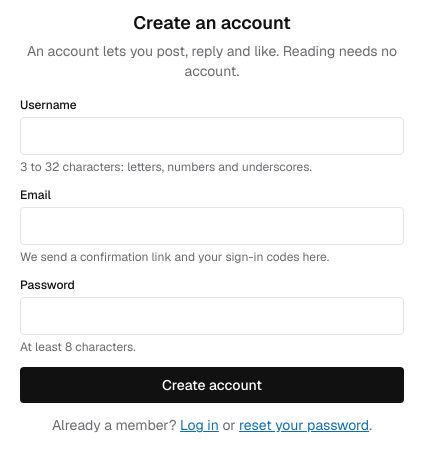
Scenario: Register › refuses a username the API would refuse, without asking it
Type "no" into the field labelled "Username" at (212, 136), box top-left (20, 117), bottom-right (404, 155)
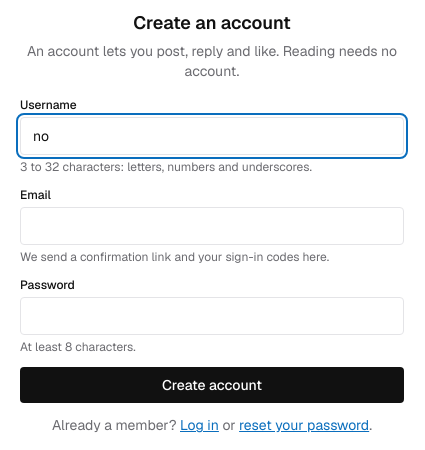
Type "newmember@example.com" into the field labelled "Email" at (212, 226), box top-left (20, 207), bottom-right (404, 245)
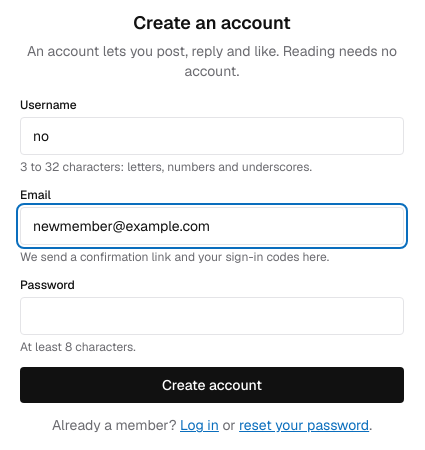
Type "Password123!" into the password field labelled "Password" at (212, 316), box top-left (20, 297), bottom-right (404, 335)
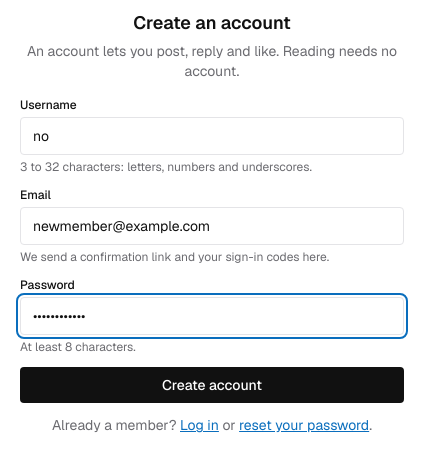
Click the button "Create account" at (212, 385), box top-left (20, 367), bottom-right (404, 403)
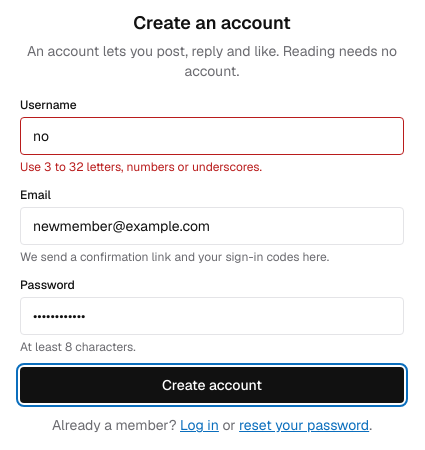
Now the text "Use 3 to 32 letters, numbers or underscores." is shown, box top-left (20, 159), bottom-right (262, 175)
